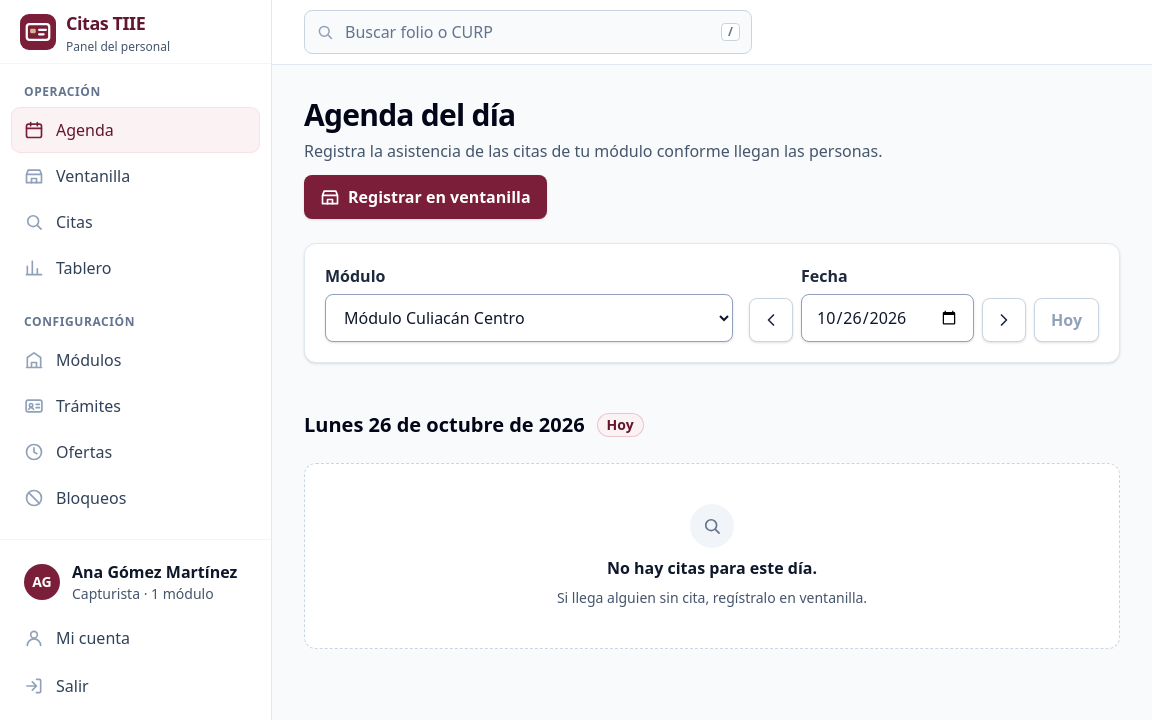
Test case: Guarda del panel › la búsqueda global lleva a Citas con el folio o la CURP ya aplicados
The image size is (1152, 720).
Expected: the heading "Agenda del día" is shown, [304,94,516,135]
In the search field named "Buscar cita por folio o CURP": (528, 32) [304,10,752,54], type " 261103-1000042 "
Then press Enter
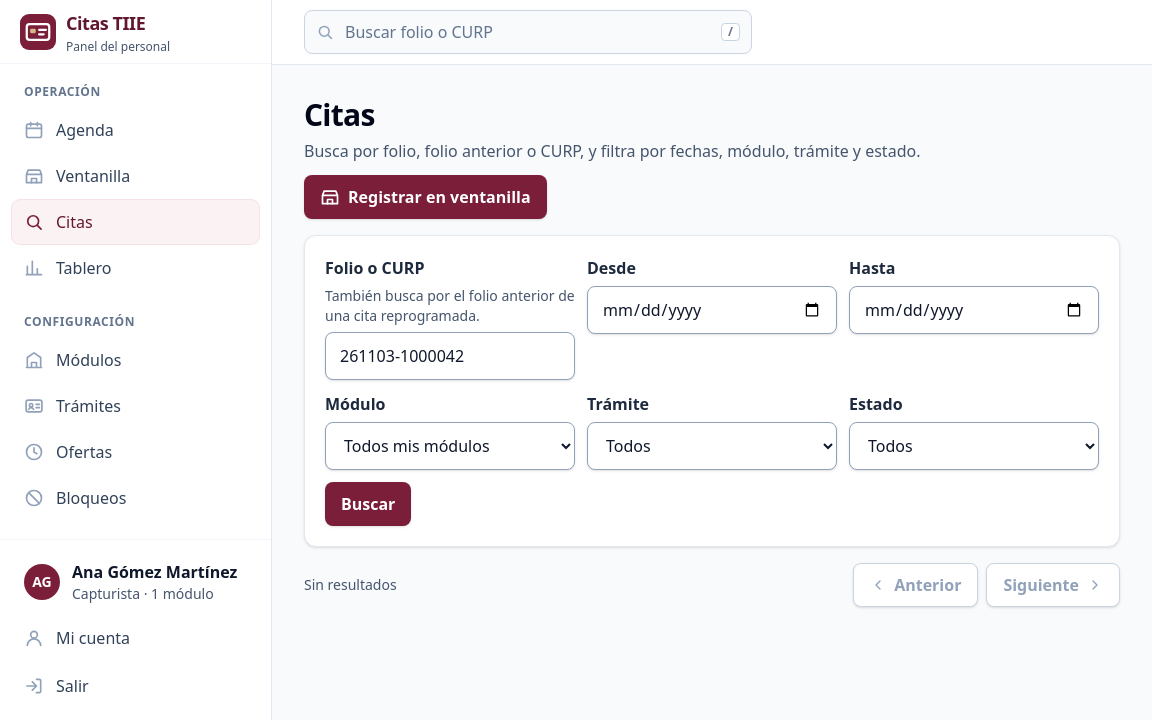
Expected: the heading "Citas" is shown, [304,94,375,135]
Expected: the field labelled "Folio o CURP" holds "261103-1000042", [325,332,575,380]
